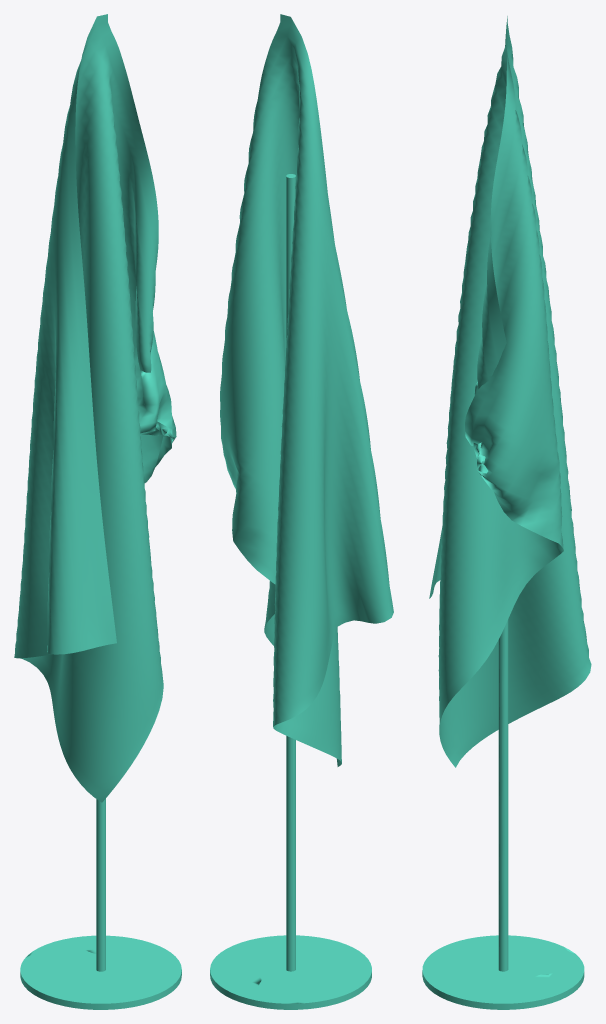
Rendered from 1_flag_obj.obj.
3 renders of one model, left to right at view 1: azimuth 30°, elevation 25°; view 2: azimuth 150°, elevation 25°; view 3: azimuth 270°, elevation 25°, orthographic.
Parts seen in each view (by area): view 1: Flag_01; view 2: Flag_01; view 3: Flag_01.
Boxes of the visible parts, x1,y1,x2,y2 form: Flag_01: (14,14,181,1009); Flag_01: (210,14,393,1009); Flag_01: (422,16,591,1009).
Bounding box in the file's own units: 329 × 2051 × 327.
